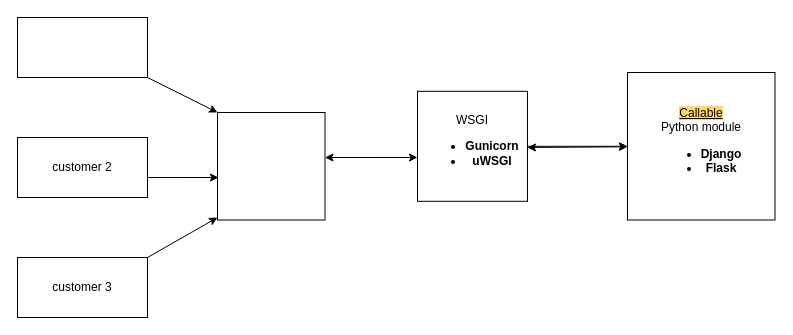
Some shapes in this 793 by 335 pixel diagram are drawn without their labels. The centre of each missing label's shape, as x and y in pixels:
"customer 1" belongs at [82,47].
"WEB SERVER Apache NGINX IIS" belongs at [270,166].
